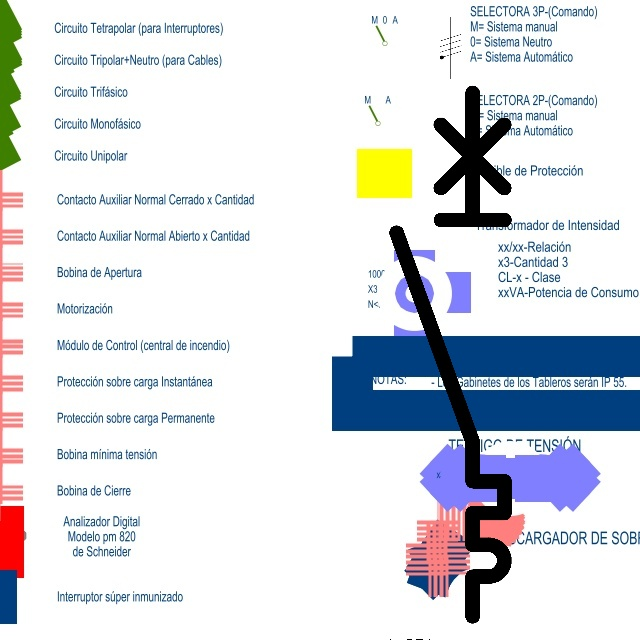interruptor_termomagnetico: (383, 79, 518, 630)
